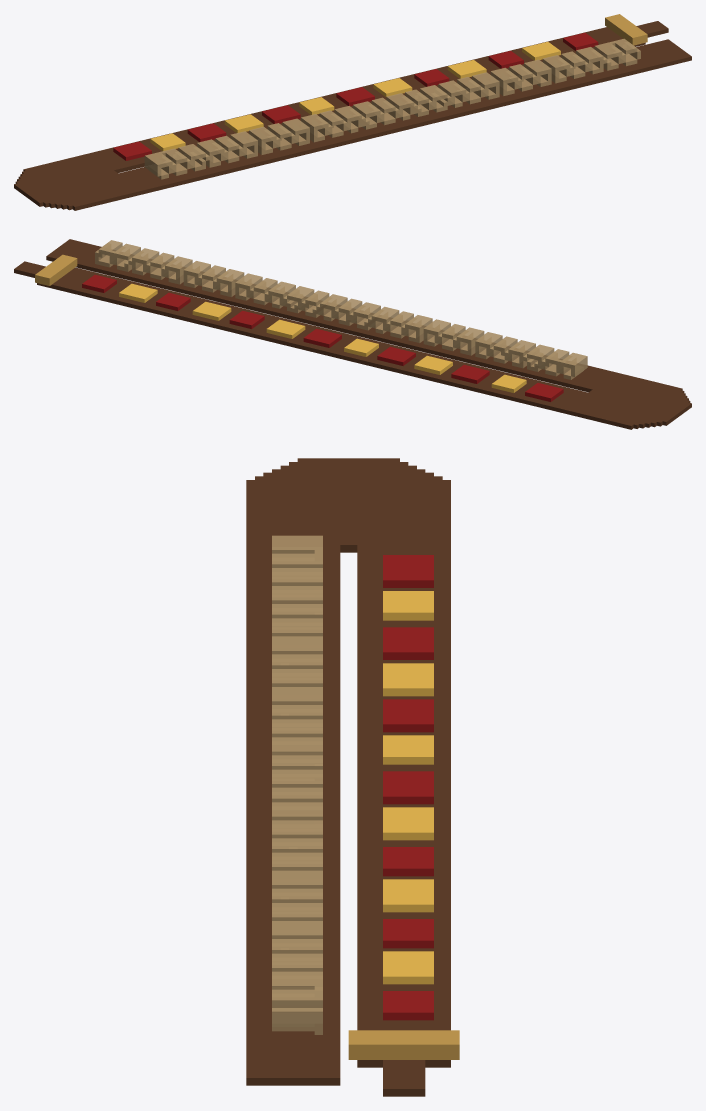
File: bandolier_pistol.glb
The picture shows the model from 3 angles, top to bottom: view 1: azimuth 30°, elevation 25°; view 2: azimuth 150°, elevation 25°; view 3: azimuth 270°, elevation 25°; orthographic projection. The views are drawn at different scales.
Visible parts, largest first — view 1: bandolier_pistol:compound; view 2: bandolier_pistol:compound; view 3: bandolier_pistol:compound.
Boxes of the visible parts, x1,y1,x2,y2 form: bandolier_pistol:compound: (14, 14, 691, 210); bandolier_pistol:compound: (14, 239, 691, 429); bandolier_pistol:compound: (246, 458, 459, 1096).
Bounding box in the file's own units: 0.7 × 0.02 × 0.1.
